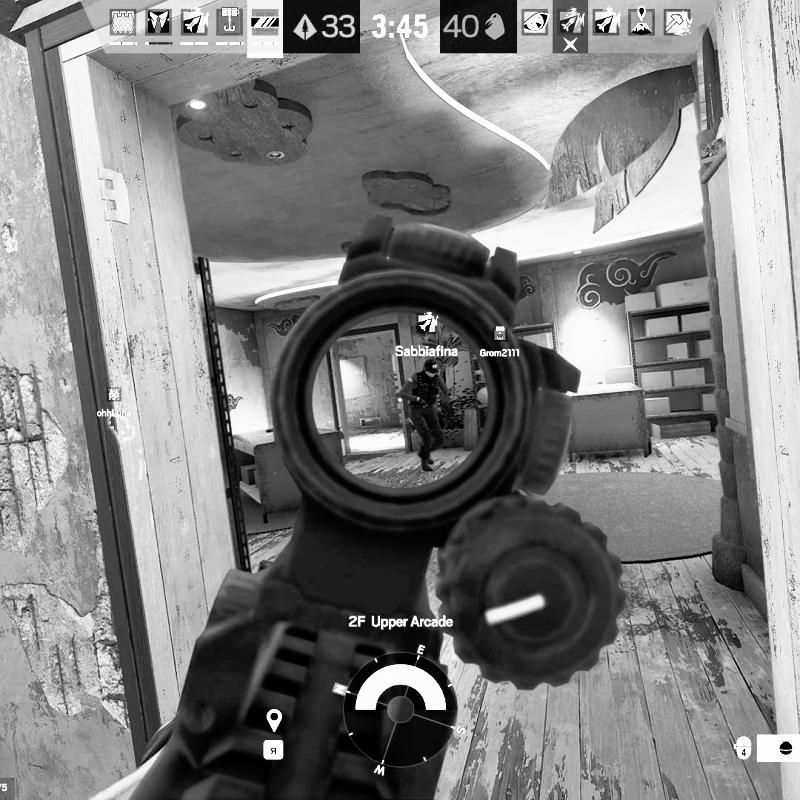Character: (396, 358, 454, 472)
Friend_label: (394, 311, 459, 358), (478, 324, 521, 359), (95, 386, 132, 419)
Head: (423, 358, 441, 378)
